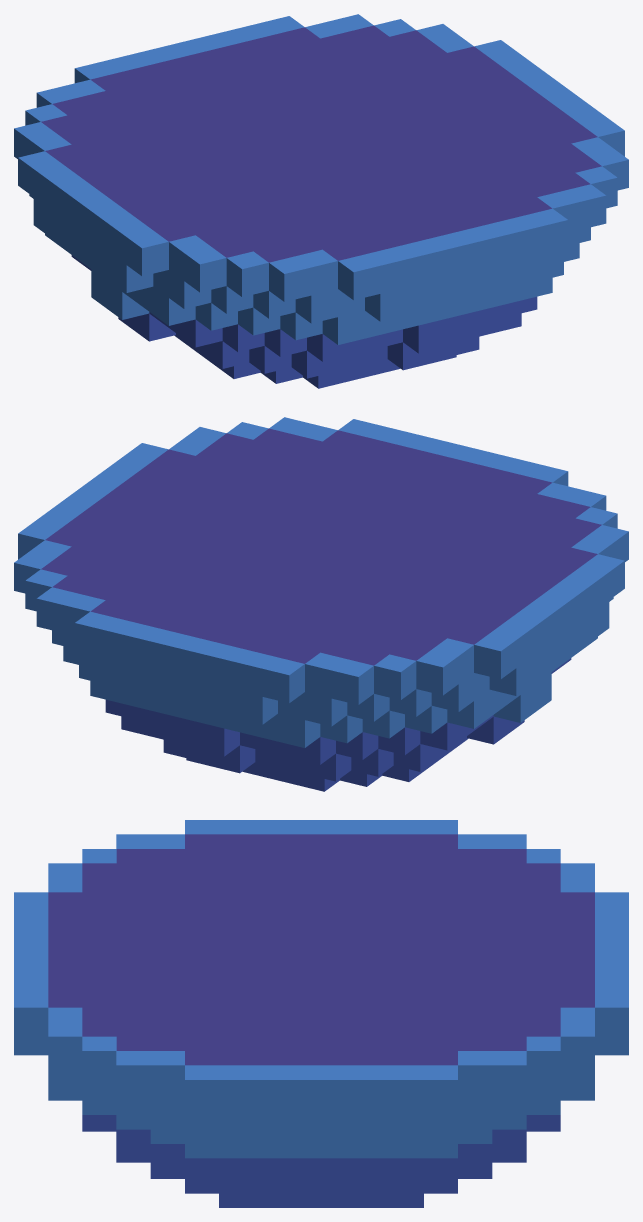
File: teapot_9.obj
3 renders of one model, top to bottom at view 1: azimuth 30°, elevation 25°; view 2: azimuth 150°, elevation 25°; view 3: azimuth 270°, elevation 25°, orthographic. The views are drawn at different scales.
Bounding box in the file's own units: 1.8 × 0.6 × 1.8.
Materials: 1 (1 with a texture image).
